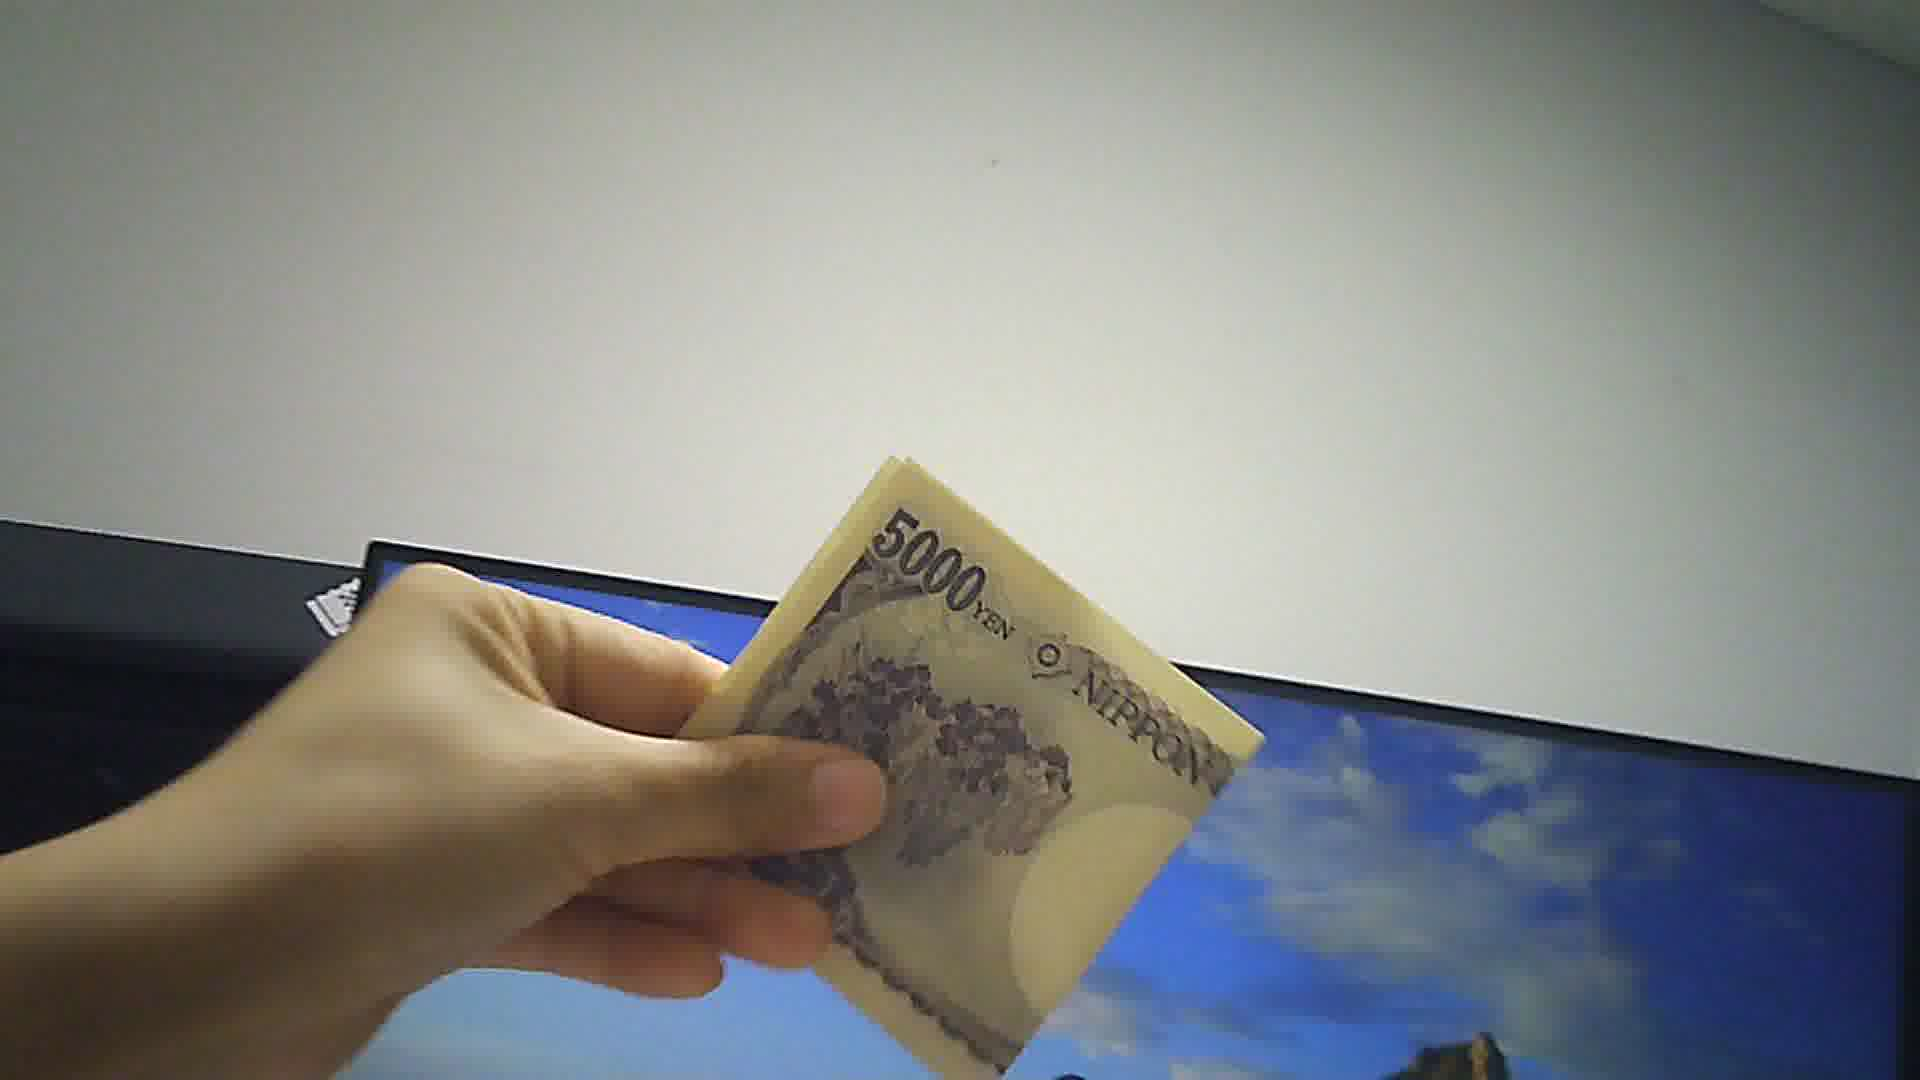5,000 Yen: (642, 426, 1278, 1077)
